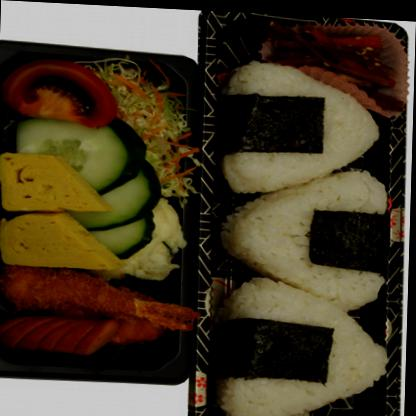rice roll: (209, 278, 389, 415), (211, 65, 396, 188), (215, 174, 396, 289)
